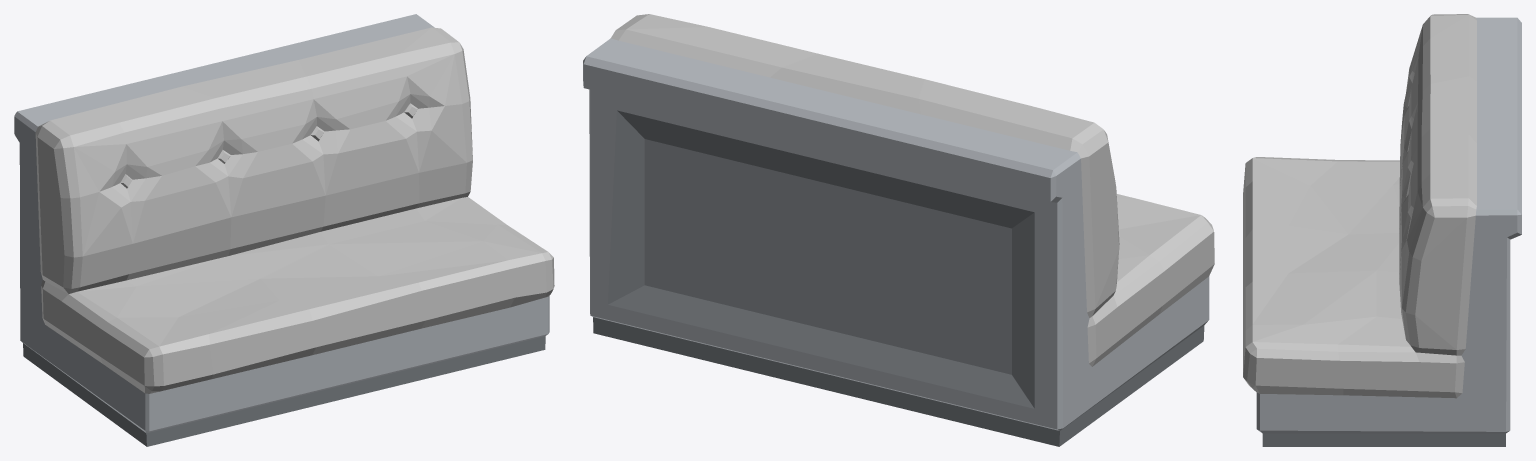
The model's file is SM_Prop_Sofa_03.fbx.
3 views of the same model, side by side, from view 1: azimuth 30°, elevation 25°; view 2: azimuth 150°, elevation 25°; view 3: azimuth 270°, elevation 25° (orthographic). The views are drawn at different scales.
Visible parts, largest first — view 1: SM_Prop_Sofa_03; view 2: SM_Prop_Sofa_03; view 3: SM_Prop_Sofa_03.
Part boxes in pixels (bbox=[...]): SM_Prop_Sofa_03: bbox=[14, 14, 554, 446]; SM_Prop_Sofa_03: bbox=[583, 14, 1214, 446]; SM_Prop_Sofa_03: bbox=[1243, 14, 1521, 446].
Size of the model in its own units: 190 by 111 by 114.
